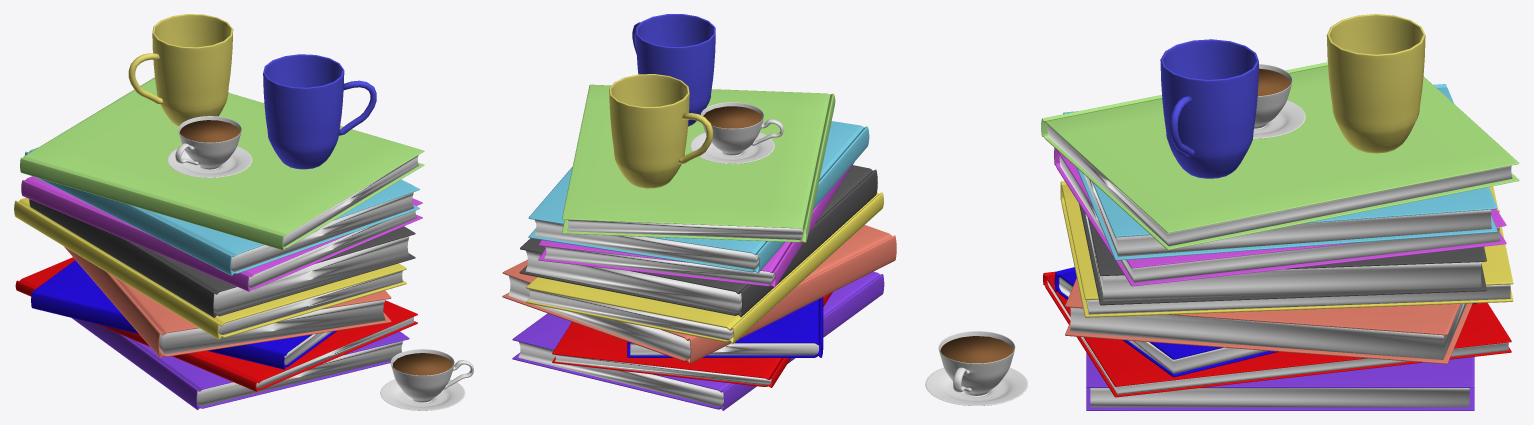
The model's file is cups-and-books.glb.
3 views of the same model, side by side, from view 1: azimuth 30°, elevation 25°; view 2: azimuth 150°, elevation 25°; view 3: azimuth 270°, elevation 25° (orthographic). The views are drawn at different scales.
Visible parts, largest first — view 1: Line010, Line450, Line439, Line003, Line007, Line009, Line006, Line002, Line008, Line005, Line004, Box004 (+16 smaller); view 2: Line010, Line439, Line003, Line005, Line450, Line009, Line007, Line004, Line002, Box006, Box008, Box007 (+12 smaller); view 3: Line010, Line439, Line450, Box004, Box006, Line002, Line005, Box003, Box008, Line004, Box009, Box007 (+15 smaller).
Part boxes in pixels (left/top/right/bottom): Line010: left=20, top=77, right=424, bottom=250; Line450: left=263, top=54, right=344, bottom=169; Line439: left=152, top=14, right=233, bottom=126; Line003: left=14, top=197, right=406, bottom=339; Line007: left=29, top=199, right=415, bottom=317; Line009: left=25, top=147, right=419, bottom=275; Line006: left=31, top=260, right=337, bottom=369; Line002: left=15, top=257, right=417, bottom=391; Line008: left=21, top=176, right=422, bottom=291; Line005: left=64, top=246, right=391, bottom=357; Line004: left=72, top=318, right=409, bottom=409; Box004: left=159, top=299, right=385, bottom=354; Line010: left=562, top=84, right=835, bottom=242; Line439: left=609, top=74, right=689, bottom=188; Line003: left=526, top=192, right=883, bottom=343; Line005: left=502, top=225, right=896, bottom=363; Line450: left=635, top=14, right=715, bottom=126; Line009: left=528, top=121, right=869, bottom=273; Line007: left=519, top=165, right=877, bottom=317; Line004: left=512, top=271, right=884, bottom=410; Line002: left=552, top=292, right=832, bottom=387; Box006: left=525, top=250, right=741, bottom=312; Box008: left=534, top=220, right=759, bottom=269; Box007: left=544, top=246, right=775, bottom=283; Line010: left=1041, top=62, right=1519, bottom=249; Line439: left=1326, top=14, right=1425, bottom=153; Line450: left=1160, top=39, right=1258, bottom=178; Box004: left=1070, top=303, right=1466, bottom=359; Box006: left=1085, top=214, right=1481, bottom=301; Line002: left=1043, top=271, right=1511, bottom=397; Line005: left=1065, top=210, right=1499, bottom=364; Box003: left=1090, top=388, right=1469, bottom=407; Box008: left=1084, top=174, right=1491, bottom=256; Line004: left=1086, top=352, right=1474, bottom=410; Box009: left=1047, top=125, right=1512, bottom=246; Box007: left=1059, top=155, right=1500, bottom=282.
Size of the model in its own units: 15.64 by 12.59 by 21.18.
